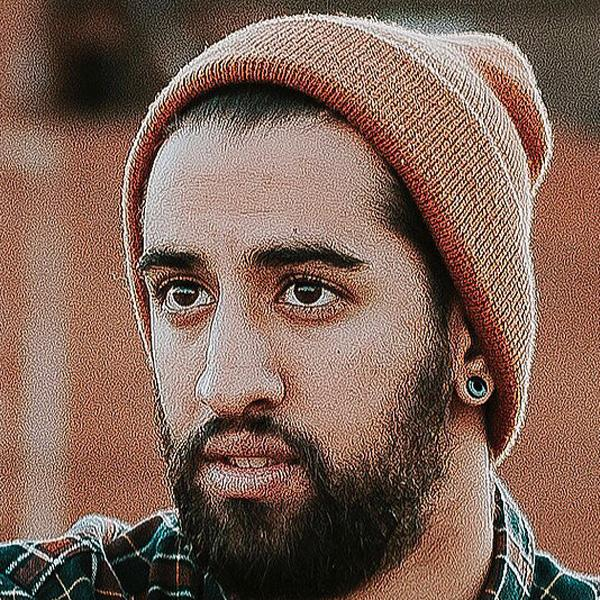Eyes: (262, 266, 356, 326), (145, 269, 222, 327)
